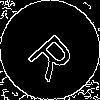R: (25, 25, 84, 83)
